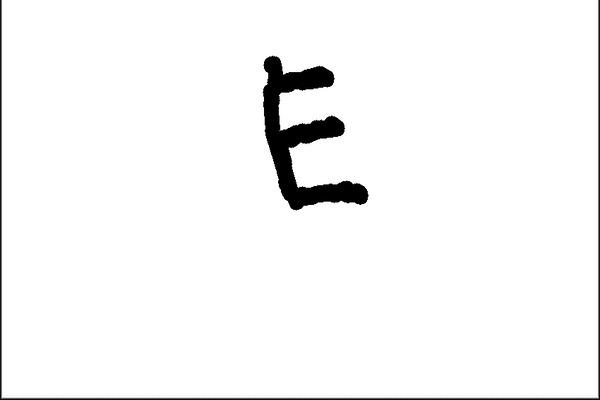E: (256, 51, 373, 214)
